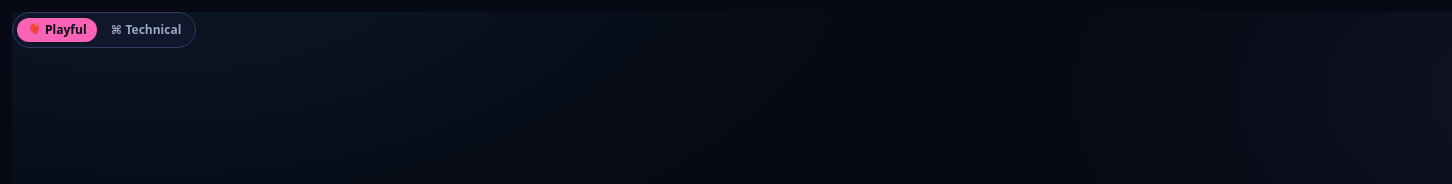
Test: mode toggle › is a switch that persists the preference
Click the switch at (104,30), box [12,12,196,48]
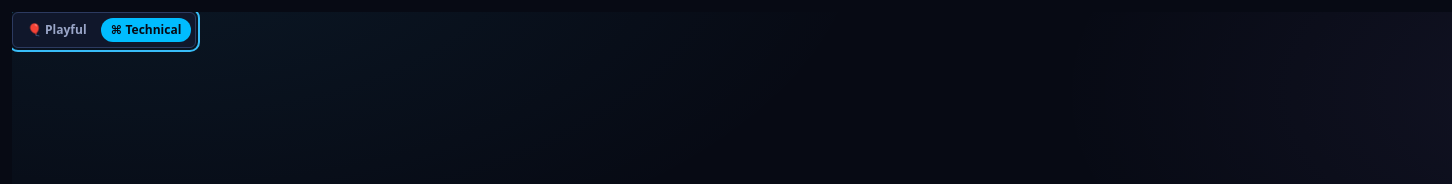
Expected: the switch is checked, [12,12,196,48]
